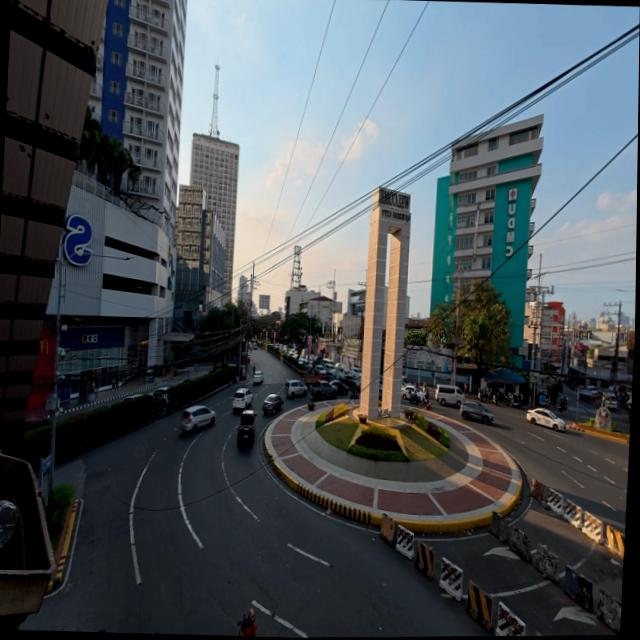car: (180, 405, 214, 432), (526, 408, 565, 431), (459, 401, 493, 424), (231, 388, 251, 410), (261, 394, 282, 414), (284, 380, 307, 398), (23, 417, 49, 431), (401, 385, 422, 401), (151, 387, 168, 404), (329, 380, 347, 394), (339, 375, 355, 388), (312, 365, 325, 380), (121, 393, 142, 402), (252, 371, 262, 384), (325, 369, 335, 382), (351, 366, 361, 376), (401, 377, 408, 386), (298, 356, 304, 365), (252, 344, 256, 349)
motorcycle: (492, 390, 508, 403), (477, 387, 491, 401), (509, 393, 522, 408), (408, 392, 422, 404), (557, 397, 567, 412), (422, 398, 430, 411)
trucks: (236, 410, 255, 444), (309, 381, 336, 401), (303, 373, 319, 391)
vans: (435, 385, 463, 408), (335, 364, 351, 379), (602, 394, 616, 409), (322, 357, 335, 369)
